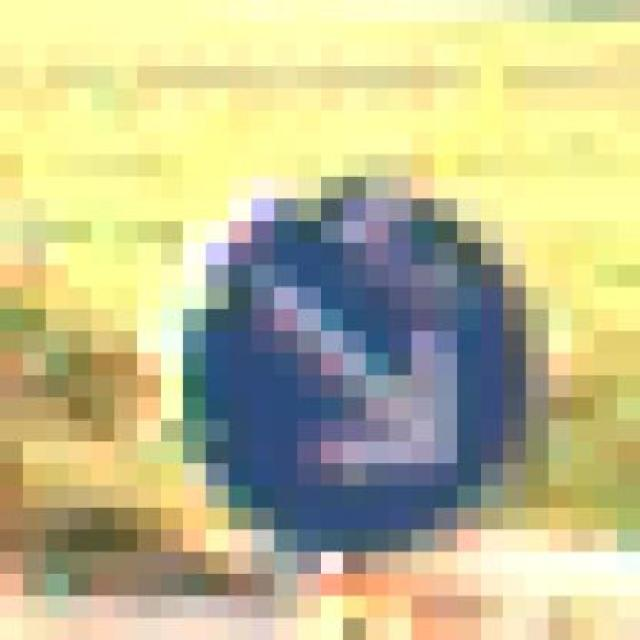Keep-Right: (115, 110, 594, 596)
